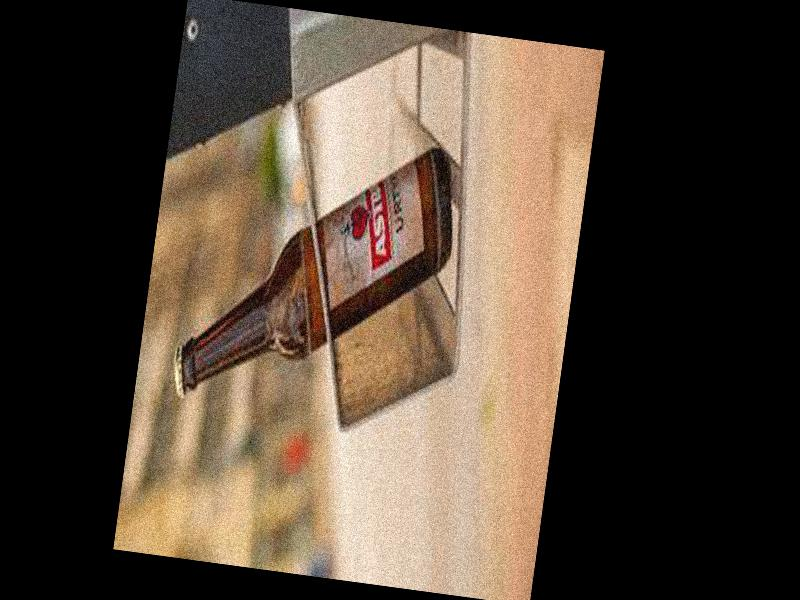Beer: (167, 113, 465, 433)
